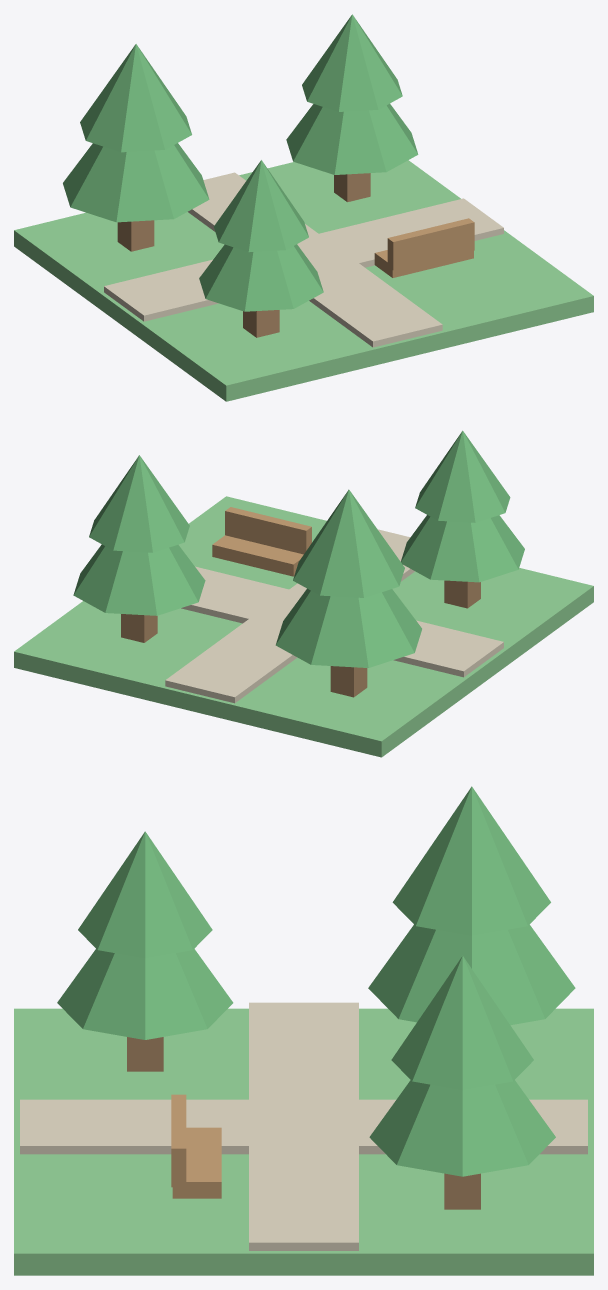
Rendered from park.fbx.
3 views of the same model, one above another, from view 1: azimuth 30°, elevation 25°; view 2: azimuth 150°, elevation 25°; view 3: azimuth 270°, elevation 25° (orthographic). The views are drawn at different scales.
Visible parts, largest first — view 1: Park; view 2: Park; view 3: Park.
Boxes of the visible parts, box(x1,y1,x2,y2) form: Park: box(14, 14, 593, 401); Park: box(14, 430, 593, 757); Park: box(14, 786, 593, 1275).
Size of the model in its own units: 1.9 by 1.07 by 1.9.
